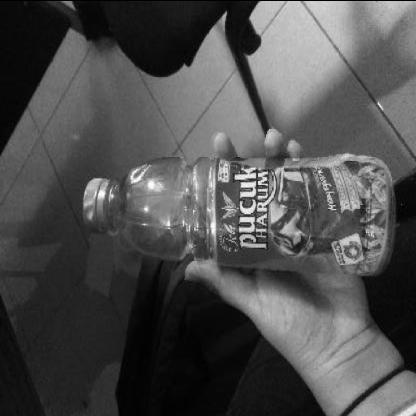plastic_bottles: (78, 150, 398, 282)
